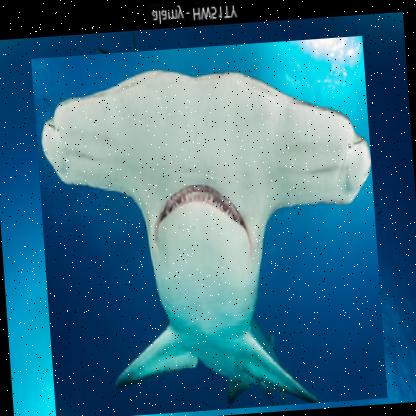hammerhead_Shark: (31, 34, 390, 415)
